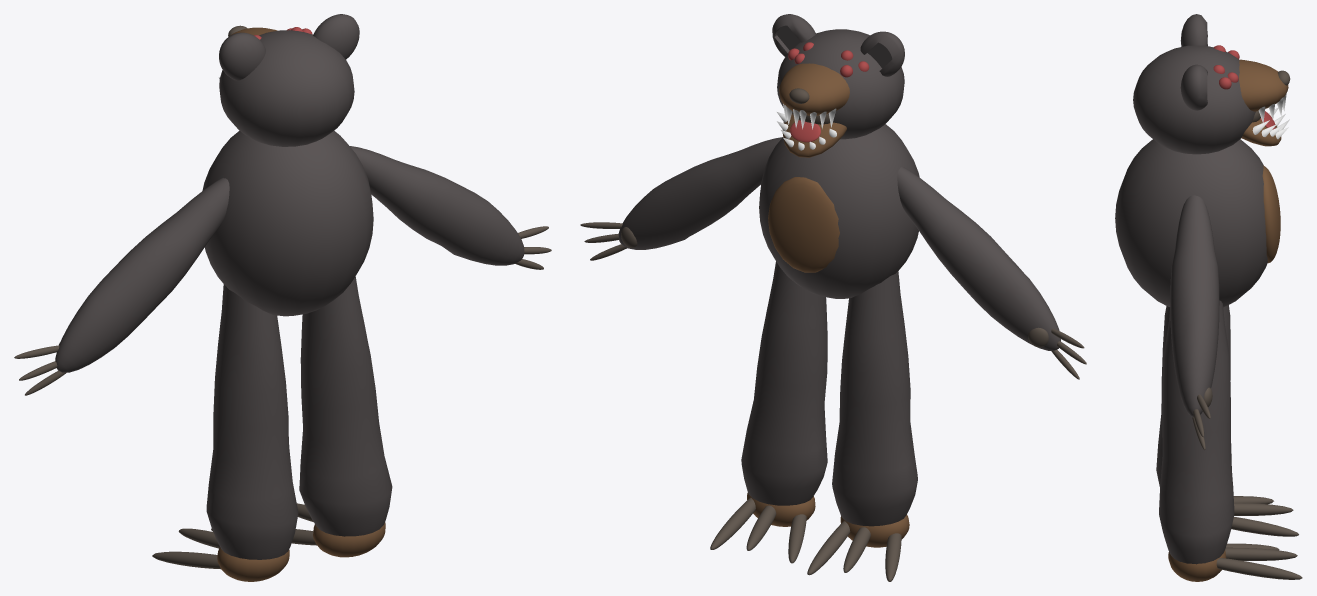
Rendered from Monster Bear.fbx.
3 renders of one model, left to right at view 1: azimuth 30°, elevation 25°; view 2: azimuth 150°, elevation 25°; view 3: azimuth 270°, elevation 25°, orthographic. The views are drawn at different scales.
Parts seen in each view (by area): view 1: pSphere19 (×2), pSphere1, pSphere9 (×2), pSphere2, pSphere21 (×2), pSphere7, pSphere8, pSphere31; view 2: pSphere19 (×2), pSphere9 (×2), pSphere1, pSphere2, pSphere24, pSphere3, pSphere21 (×2), pSphere30 (×2), pSphere7, pSphere8, pSphere29; view 3: pSphere1, pSphere19 (×2), pSphere2, pSphere9, pSphere3, pSphere30 (×2), pSphere15 (×2), pSphere24, pSphere8, pSphere21, pSphere7, pSphere29 (+1 smaller).
Boxes of the visible parts, x1,y1,x2,y2 form: pSphere19 (×2): (206, 276, 392, 559); pSphere1: (202, 130, 373, 316); pSphere9 (×2): (55, 146, 524, 372); pSphere2: (219, 30, 354, 146); pSphere21 (×2): (217, 522, 385, 581); pSphere7: (219, 32, 265, 80); pSphere8: (313, 14, 359, 59); pSphere31: (152, 551, 220, 569); pSphere19 (×2): (741, 261, 917, 526); pSphere9 (×2): (618, 137, 1060, 350); pSphere1: (759, 124, 919, 298); pSphere2: (777, 29, 904, 139); pSphere24: (768, 177, 839, 272); pSphere3: (779, 63, 849, 115); pSphere21 (×2): (747, 492, 909, 547); pSphere30 (×2): (710, 497, 850, 575); pSphere7: (860, 31, 904, 76); pSphere8: (772, 14, 815, 56); pSphere29: (782, 114, 846, 157); pSphere1: (1115, 139, 1267, 307); pSphere19 (×2): (1156, 300, 1234, 564); pSphere2: (1133, 45, 1255, 154); pSphere9: (1170, 195, 1219, 417); pSphere3: (1239, 59, 1288, 111); pSphere30 (×2): (1216, 517, 1302, 579); pSphere15 (×2): (1225, 503, 1297, 560); pSphere24: (1262, 165, 1280, 263); pSphere8: (1180, 64, 1207, 110); pSphere21: (1168, 550, 1226, 581); pSphere7: (1180, 14, 1207, 46); pSphere29: (1241, 119, 1281, 146).
Bounding box in the file's own units: 19.15 × 18.7 × 6.23.
